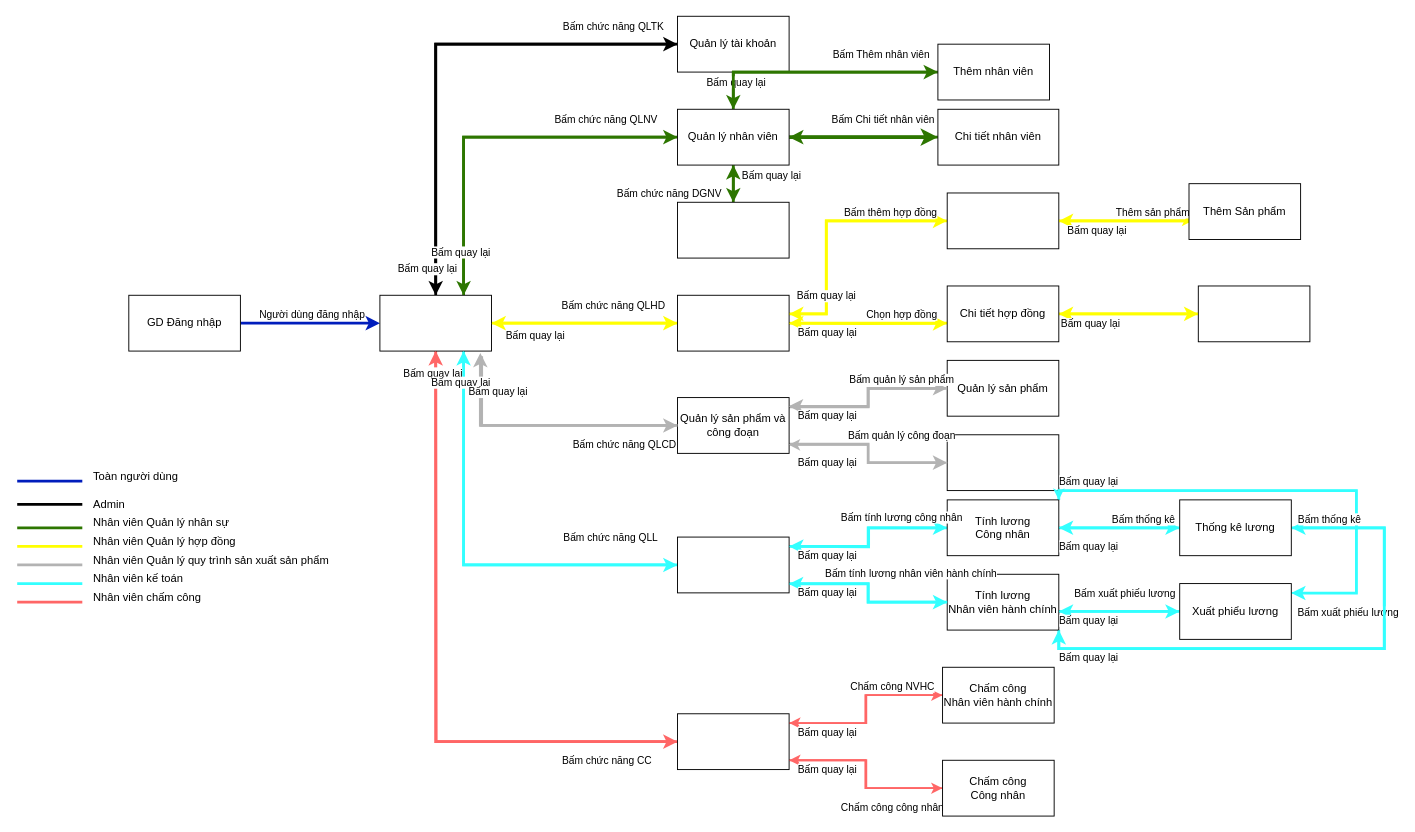
Image size: 1415x832. Some labels were removed from this diagram. The shapes that lost their labels are listed below. From the top down, each one's box as (x1, y1, x2, y2) in pixels, then its label:
(677, 201, 789, 258): Đánh giá nhân viên
(946, 192, 1059, 249): Thêm hợp đồng
(379, 294, 492, 351): GD Menu Chính
(677, 294, 789, 351): Quản lý hợp đồng
(1197, 285, 1310, 342): Cập nhật hợp đồng
(946, 434, 1059, 491): Quản lý công đoạn
(677, 536, 789, 593): Quản lý lương
(677, 713, 789, 770): Chấm công
